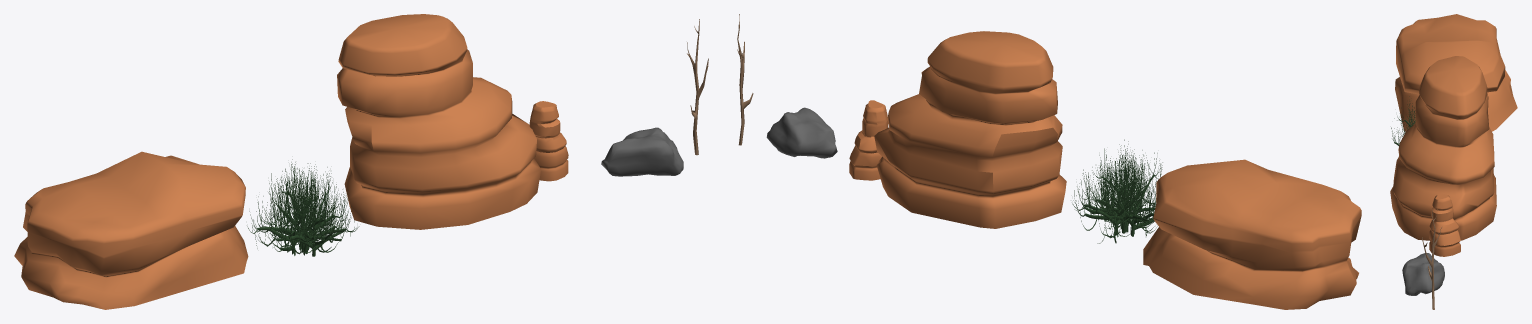
File: EnvNorth_01.fbx
The picture shows the model from 3 angles, left to right: view 1: azimuth 30°, elevation 25°; view 2: azimuth 150°, elevation 25°; view 3: azimuth 270°, elevation 25°; orthographic projection. The views are drawn at different scales.
Parts seen in each view (by area): view 1: pCube24; view 2: pCube24; view 3: pCube24.
Boxes of the visible parts, x1,y1,x2,y2 form: pCube24: (14, 14, 708, 309); pCube24: (737, 14, 1361, 309); pCube24: (1390, 14, 1517, 309).
Size of the model in its own units: 1690 by 451 by 380.
